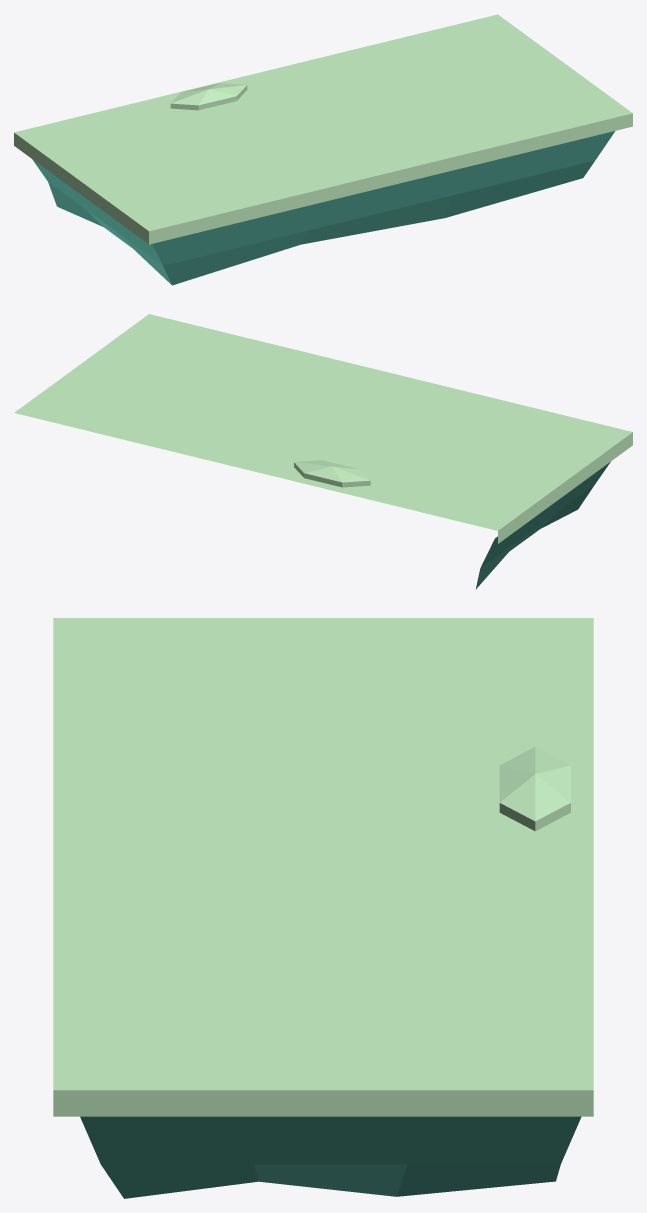
File: floe3.glb
The picture shows the model from 3 angles, top to bottom: view 1: azimuth 30°, elevation 25°; view 2: azimuth 150°, elevation 25°; view 3: azimuth 270°, elevation 25°; orthographic projection. The views are drawn at different scales.
Visible parts, largest first — view 1: Floe; view 2: Floe; view 3: Floe.
Part boxes in pixels (bbox=[...]): Floe: bbox=[14, 14, 632, 285]; Floe: bbox=[14, 314, 632, 589]; Floe: bbox=[53, 618, 593, 1198].
Size of the model in its own units: 3.06 by 0.5152 by 1.48.
